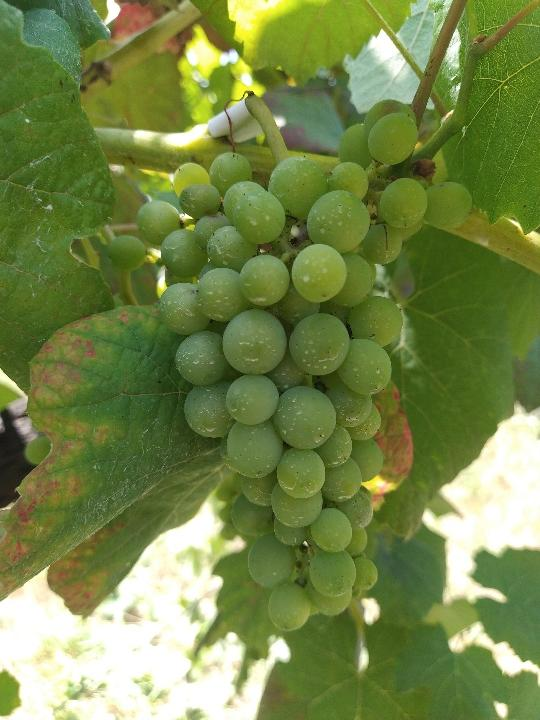grape: (110, 96, 482, 638)
